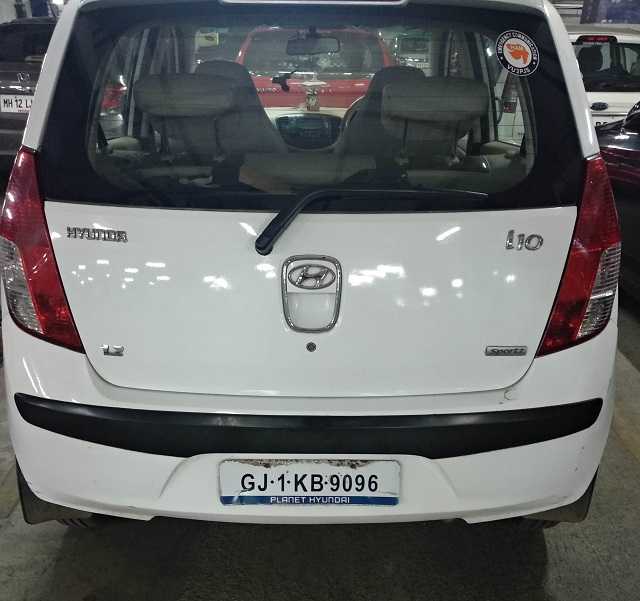licenseplate: (216, 455, 404, 508)
